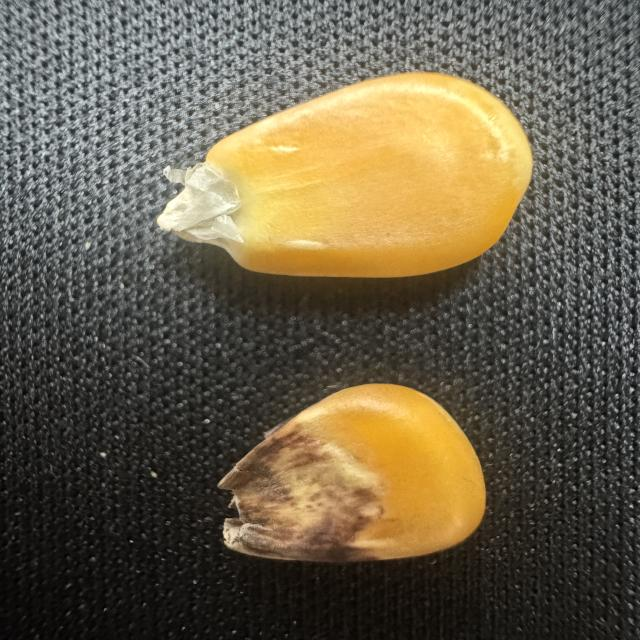Bad-Seed: (204, 368, 502, 573)
Good-Seed: (153, 59, 534, 285)
